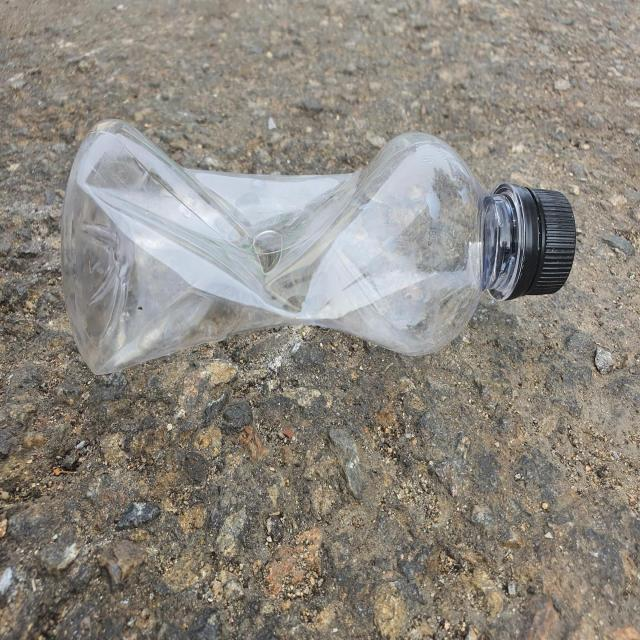plastic: (61, 119, 576, 374)
